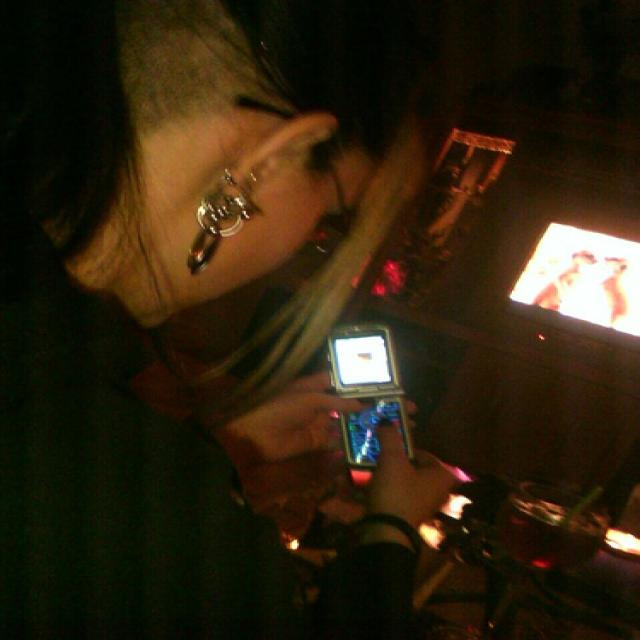Cup: (507, 456, 615, 626)
People: (2, 0, 457, 640)
